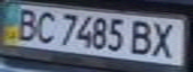4: (72, 14, 96, 48)
5: (106, 16, 130, 53)
7: (54, 11, 78, 47)
8: (90, 15, 112, 51)
B: (127, 18, 160, 56), (9, 6, 42, 42)
C: (30, 9, 60, 44)
X: (145, 19, 184, 61)
